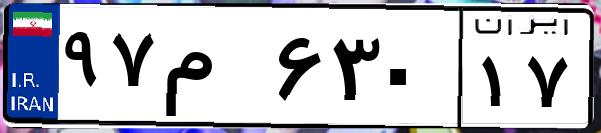0: (385, 28, 445, 110)
1: (475, 38, 525, 113)
3: (330, 28, 385, 110)
6: (270, 28, 330, 110)
7: (525, 38, 570, 115), (110, 28, 158, 98)
9: (57, 26, 110, 100)
م: (158, 20, 270, 120)
